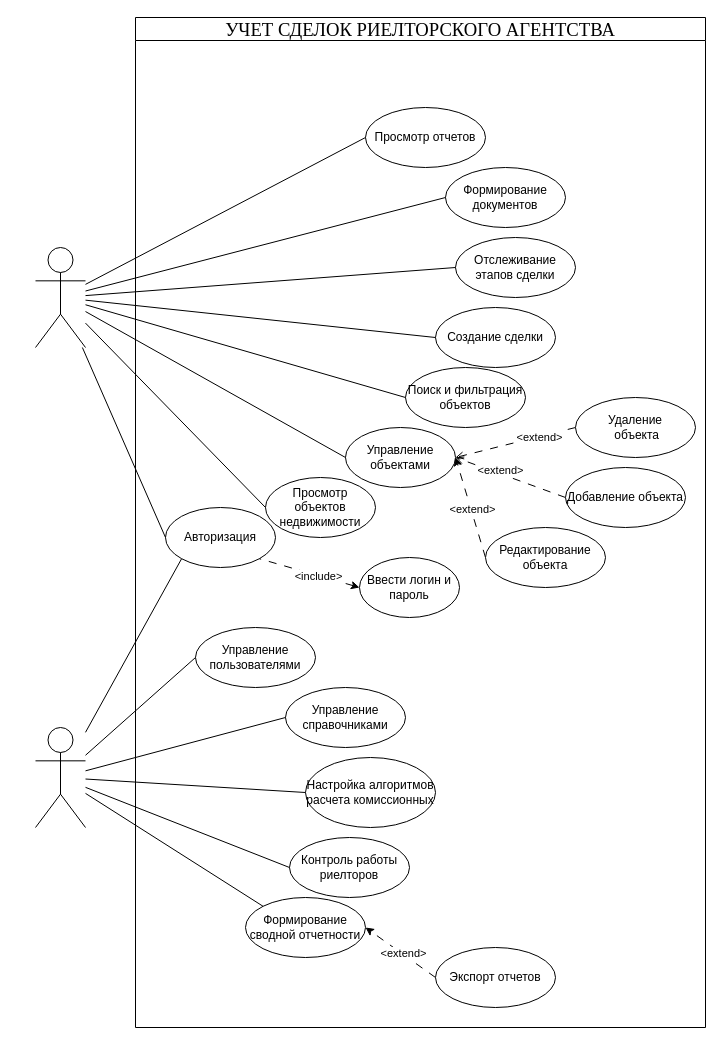
Image size: 723x1045. Some labels were removed from this diagram. Here are the shapes that lost their labels. From the top down, the box of each, then its label:
(34, 246, 86, 348): Риелтор
(34, 726, 86, 828): Администратор
